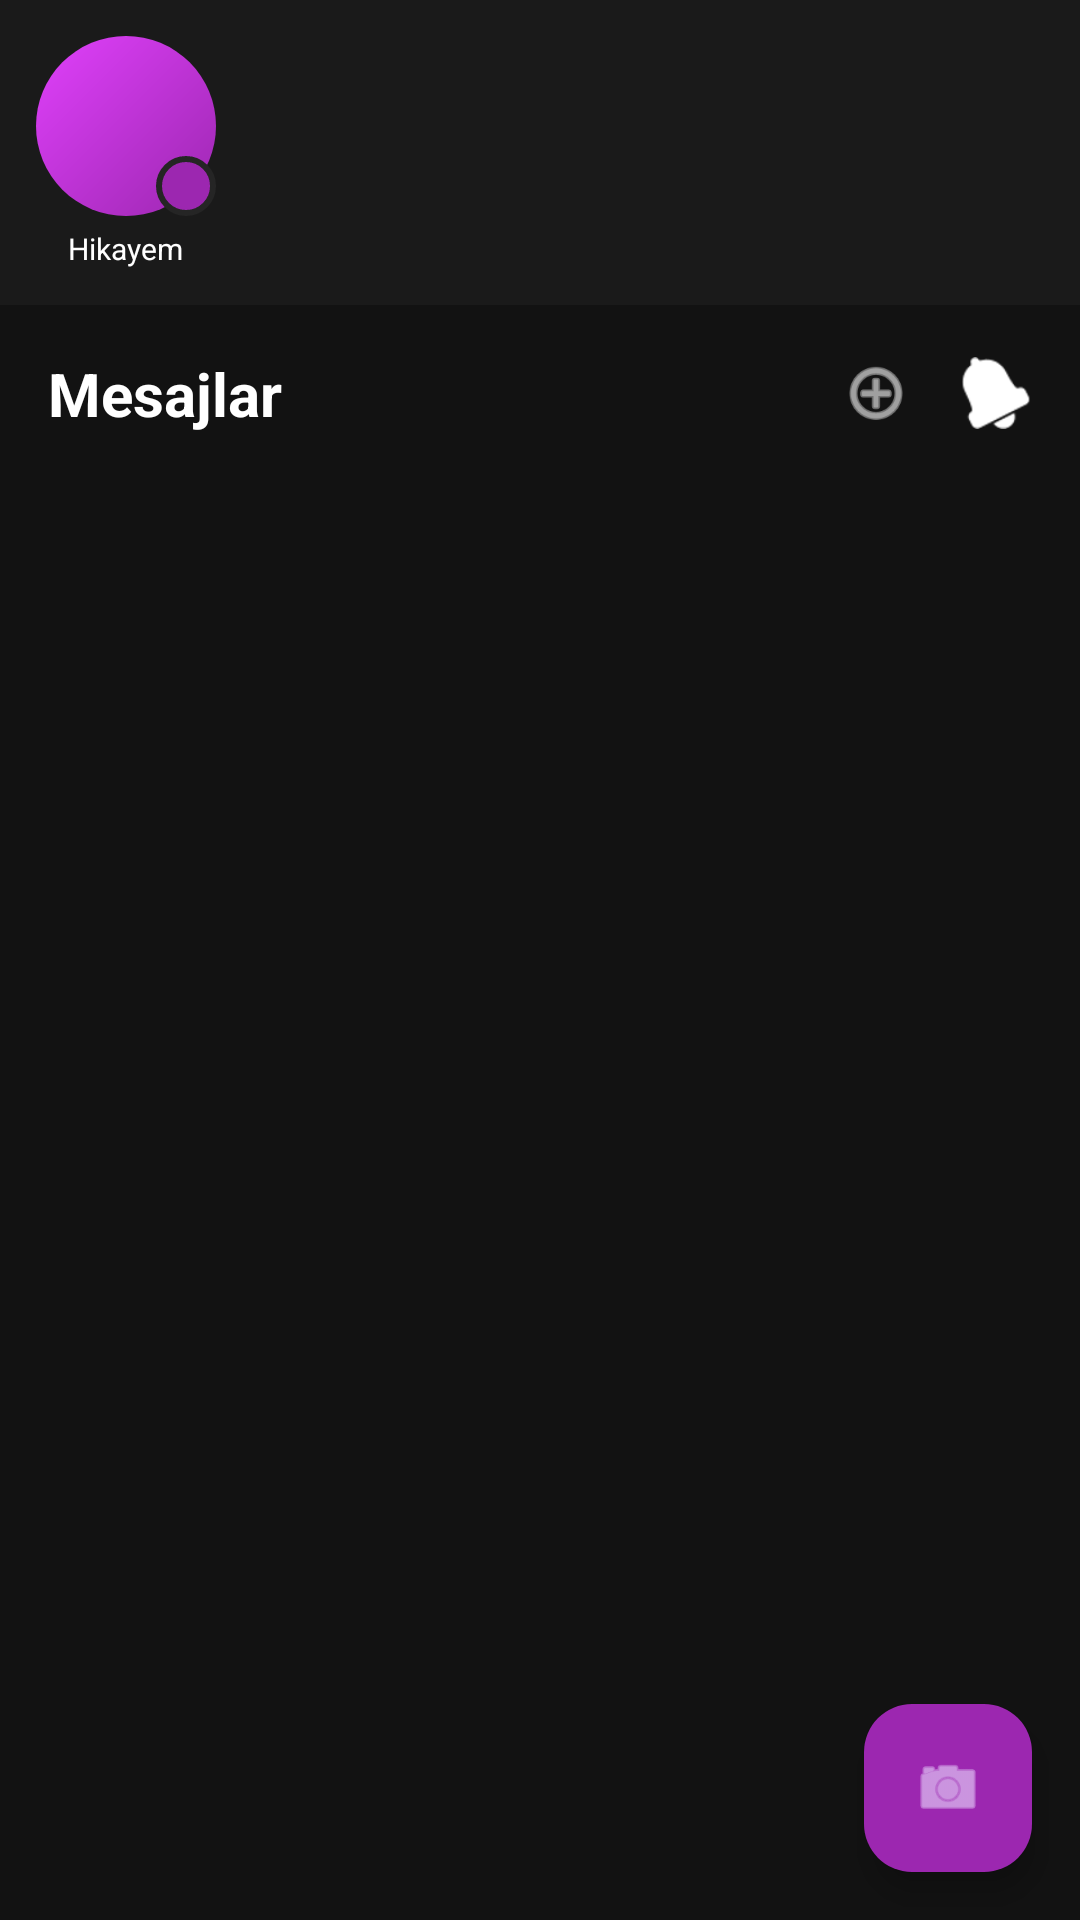

Where to tap for icons on this 1080 x 1920 app screen, as [x,y]:
add: [876,393]
camera: [948,1788]
popup reminder: [996,393]
